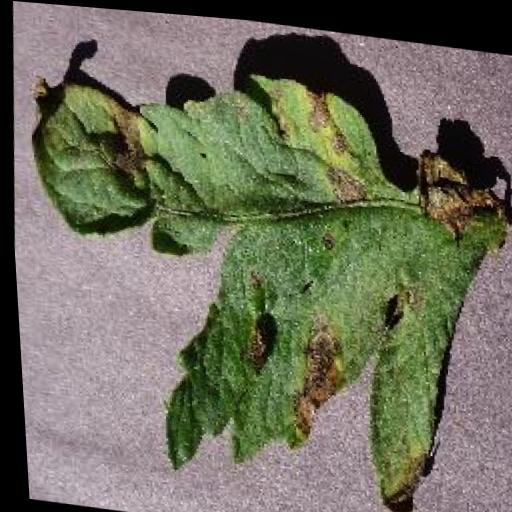Early Blight: (2, 40, 512, 512)
